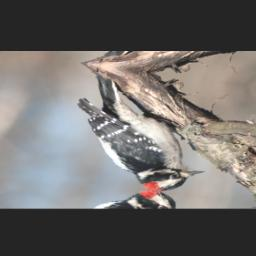Woodpecker: (49, 71, 240, 196)
